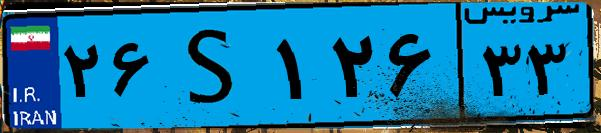1: (270, 28, 330, 110)
2: (330, 28, 385, 110), (57, 26, 110, 100)
3: (475, 38, 525, 113), (525, 38, 570, 115)
6: (385, 28, 445, 110), (110, 28, 158, 98)
S: (158, 12, 270, 120)
